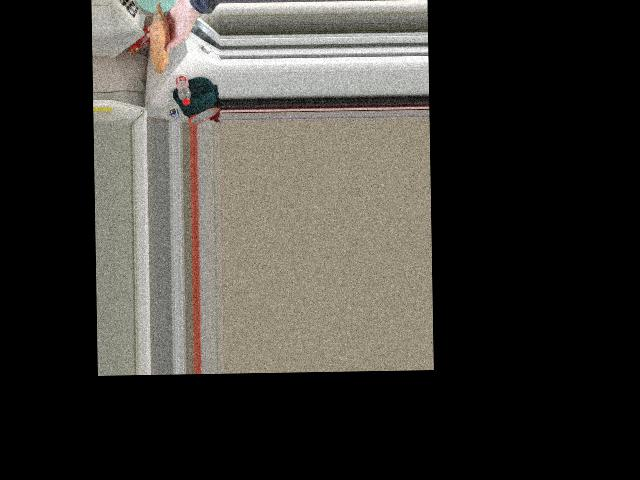sweet_potato: (152, 12, 168, 64)
